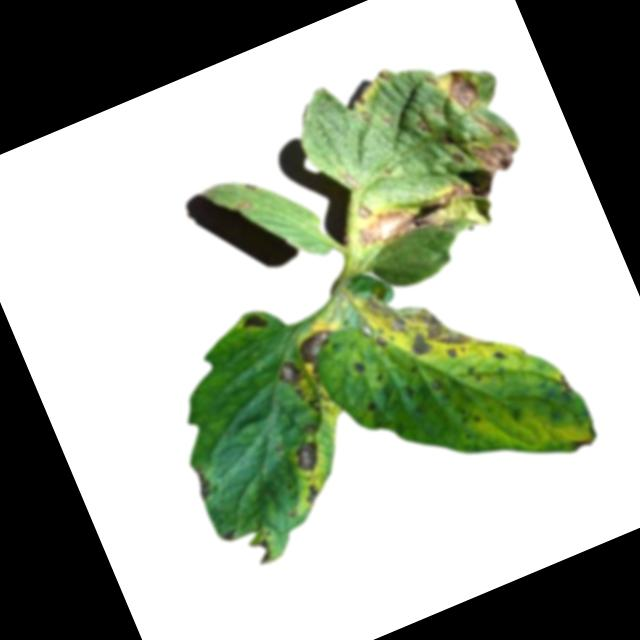Early_blight: (357, 262, 481, 384), (350, 177, 482, 261), (471, 131, 524, 181), (442, 64, 485, 115), (293, 327, 339, 369), (469, 102, 505, 143), (289, 437, 327, 475), (565, 423, 602, 454), (238, 308, 271, 338), (249, 538, 277, 572), (190, 466, 216, 502), (273, 357, 303, 388), (339, 167, 362, 195), (302, 484, 322, 506), (219, 525, 240, 545), (354, 202, 373, 222), (416, 117, 432, 137), (451, 151, 467, 167), (359, 108, 372, 124), (366, 401, 378, 414)
